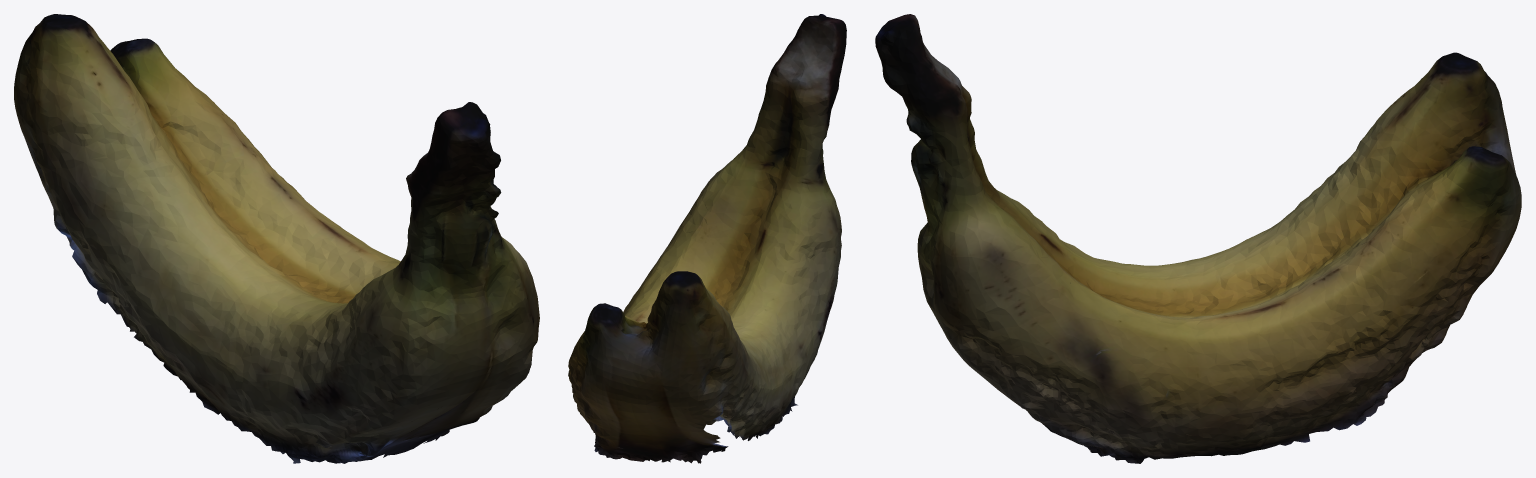
Rendered from bananan.glb.
3 views of the same model, side by side, from view 1: azimuth 30°, elevation 25°; view 2: azimuth 150°, elevation 25°; view 3: azimuth 270°, elevation 25° (orthographic). The views are drawn at different scales.
Bounding box in the file's own units: 3.95 × 5.55 × 8.12.
1 material, 1 textured.
